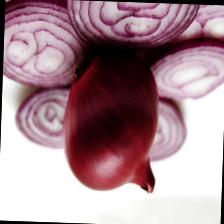onion: (58, 46, 160, 194)
